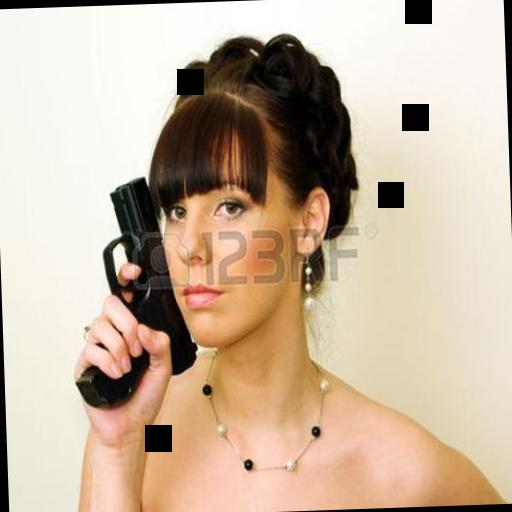Handgun: (66, 156, 196, 394)
